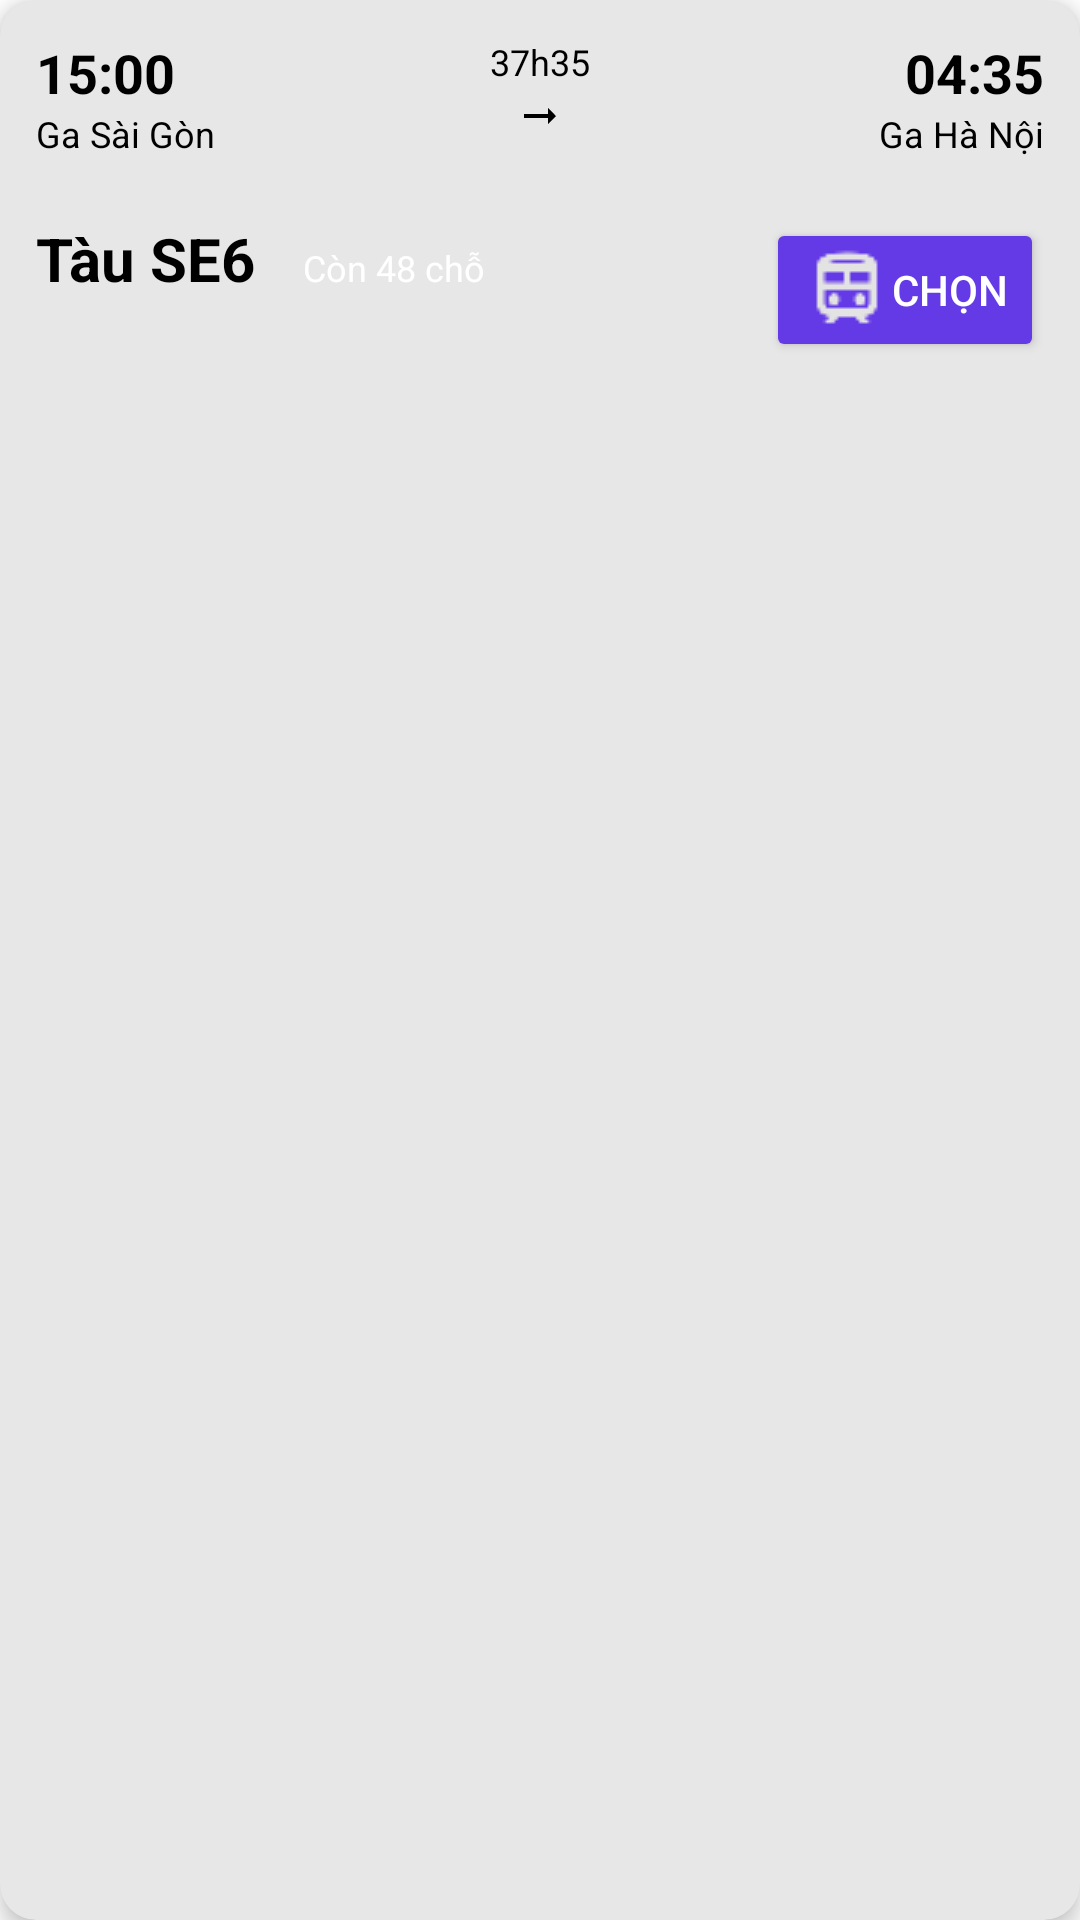

Locate icon controls on the screen. Image size 1080 x 1920, boxes as rect(x1, y1, x2, y2).
arrow right: rect(524, 108, 556, 124)
